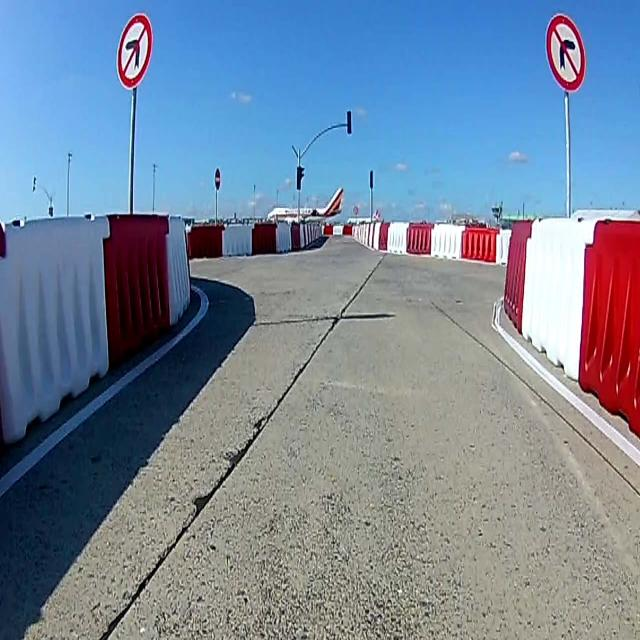sagadonulmez: (545, 14, 587, 92)
soladonulmez: (117, 14, 151, 87)
